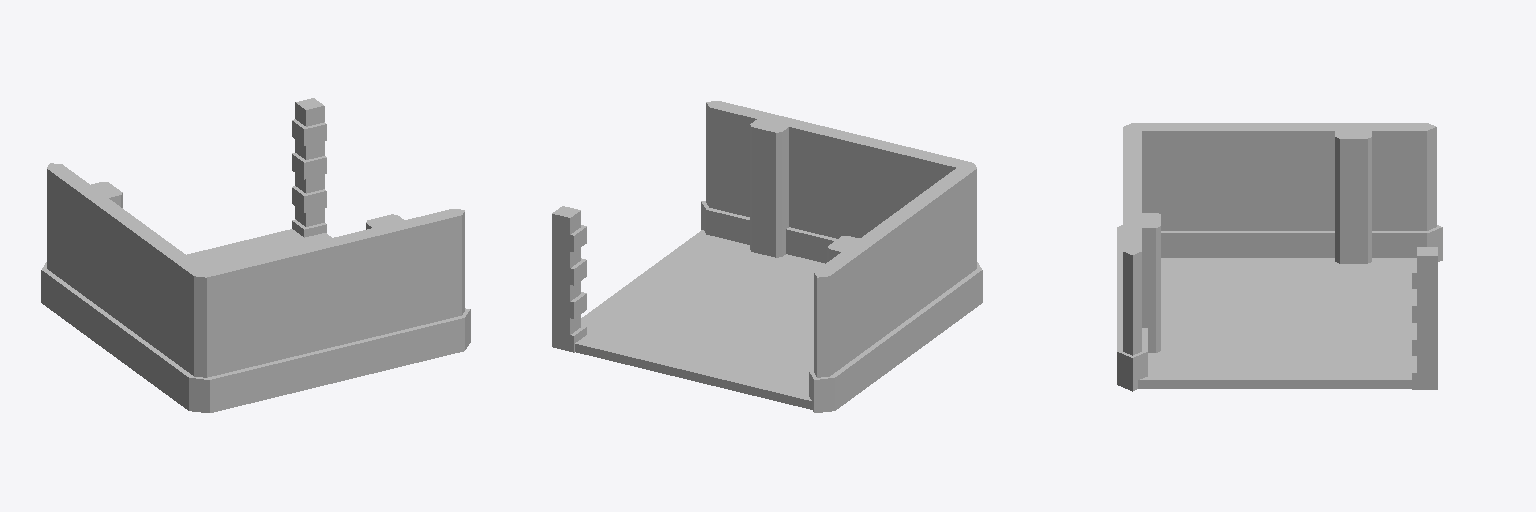
File: corner_02.obj
3 views of the same model, side by side, from view 1: azimuth 30°, elevation 25°; view 2: azimuth 150°, elevation 25°; view 3: azimuth 270°, elevation 25° (orthographic).
Visible parts, largest first — view 1: corner_01_0, wall_02_2, wall_02_3, wall_borderBricks_5, floor_01_1; view 2: floor_01_1, corner_01_0, wall_02_2, wall_02_3, wall_borderBricks_5; view 3: floor_01_1, wall_02_3, corner_01_0, wall_02_2, wall_borderBricks_5.
Part boxes in pixels (left/top/right/bottom): corner_01_0: left=115, top=217, right=337, bottom=412; wall_02_2: left=326, top=209, right=470, bottom=381; wall_02_3: left=41, top=163, right=134, bottom=356; wall_borderBricks_5: left=292, top=98, right=326, bottom=237; floor_01_1: left=187, top=229, right=331, bottom=268; floor_01_1: left=575, top=230, right=824, bottom=409; corner_01_0: left=833, top=132, right=982, bottom=356; wall_02_2: left=701, top=101, right=844, bottom=263; wall_02_3: left=809, top=219, right=908, bottom=412; wall_borderBricks_5: left=552, top=206, right=586, bottom=352; floor_01_1: left=1138, top=258, right=1416, bottom=388; wall_02_3: left=1272, top=123, right=1442, bottom=263; corner_01_0: left=1117, top=123, right=1287, bottom=288; wall_02_2: left=1117, top=189, right=1160, bottom=391; wall_borderBricks_5: left=1412, top=247, right=1437, bottom=389.
Bounding box in the file's own units: 2.21 × 1 × 2.21.